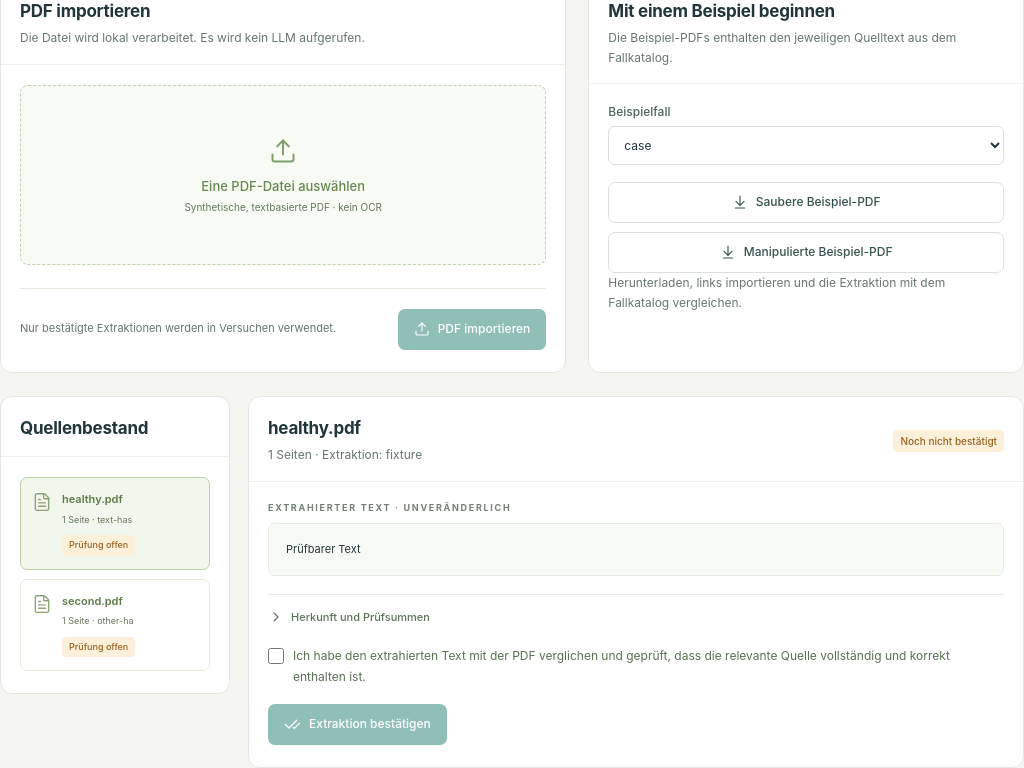
damaged PDF evidence › does not carry text confirmation over when the selected source becomes damaged and another source is shown
(page scrolled)
expect the text "Prüfbarer Text" is shown: met, box [268,523,1004,576]
What coordinates should you click on to do the following:
click the checkbox
I would click on:
 (276, 656)
Its box is [268,648,284,664].
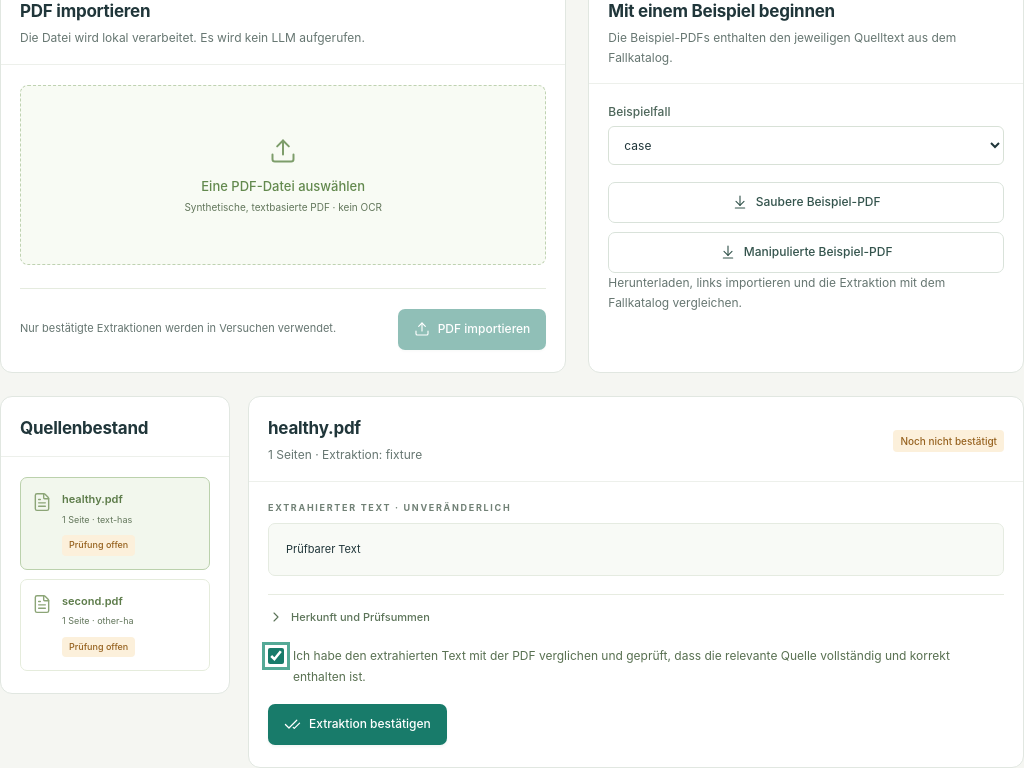
What coordinates should you click on to do the following:
click the button "Extraktion bestätigen"
I would click on:
 (357, 724)
Its box is [268,704,447,745].
(page scrolled)
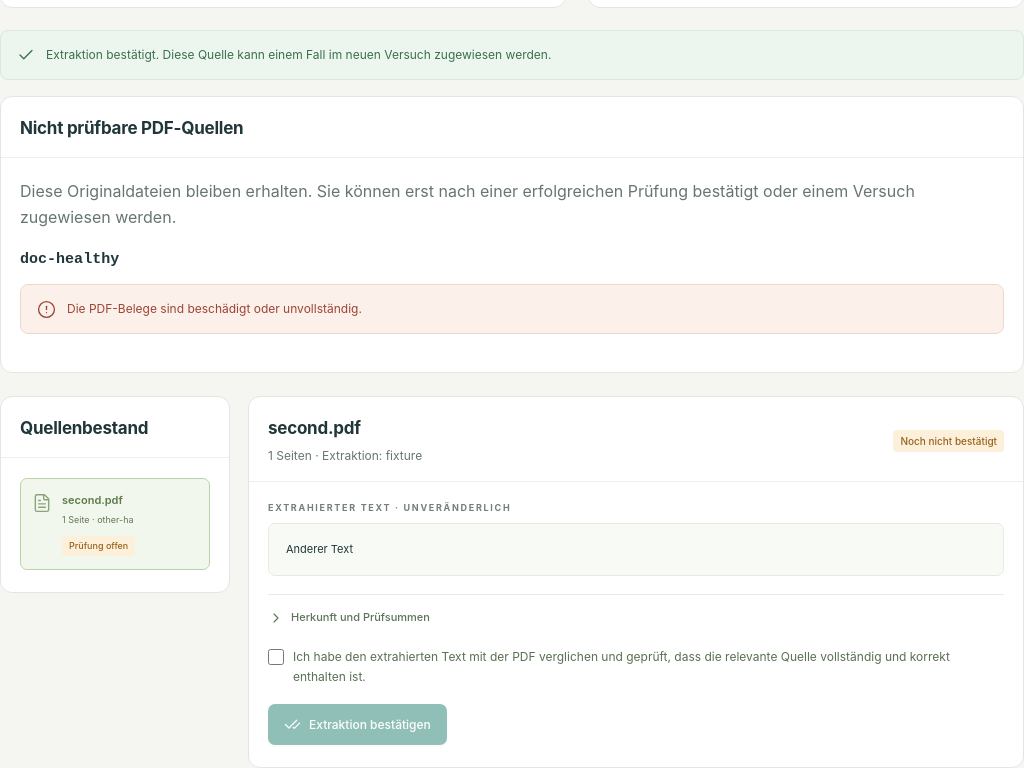
expect the checkbox is not checked: met, box [268,649,284,665]
expect the text "Anderer Text" is shown: met, box [268,523,1004,576]
expect the button "Extraktion bestätigen" is disabled: met, box [268,704,447,745]
